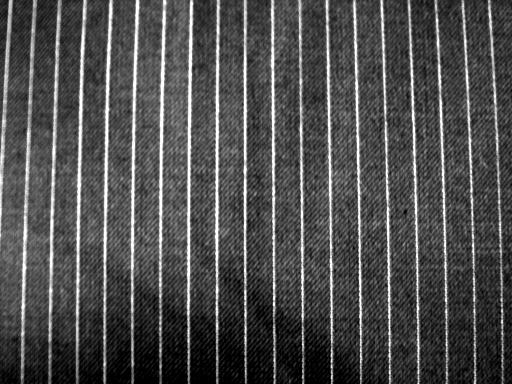fabric_perfect: (4, 2, 512, 384)
